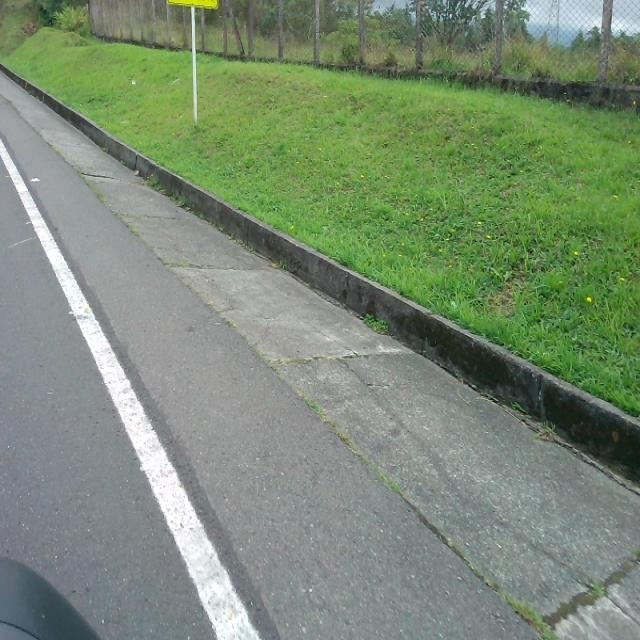DITCH: (1, 64, 638, 638), (1, 118, 638, 638)
